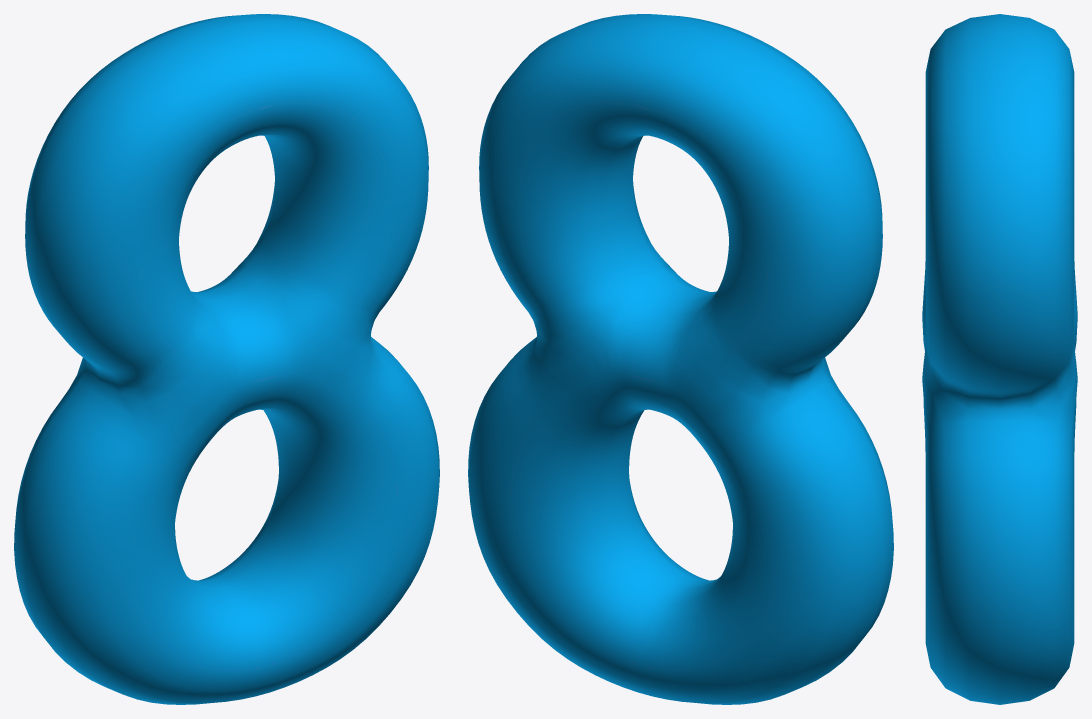
Rendered from numero-8.glb.
3 renders of one model, left to right at view 1: azimuth 30°, elevation 25°; view 2: azimuth 150°, elevation 25°; view 3: azimuth 270°, elevation 25°, orthographic. The views are drawn at different scales.
Parts seen in each view (by area): view 1: node_id30; view 2: node_id30; view 3: node_id30.
Boxes of the visible parts, x1,y1,x2,y2 form: node_id30: (14,14,439,704); node_id30: (468,14,893,704); node_id30: (922,14,1077,704).
Size of the model in its own units: 0.3278 by 0.512 by 0.1132.
1 material, 1 textured.
